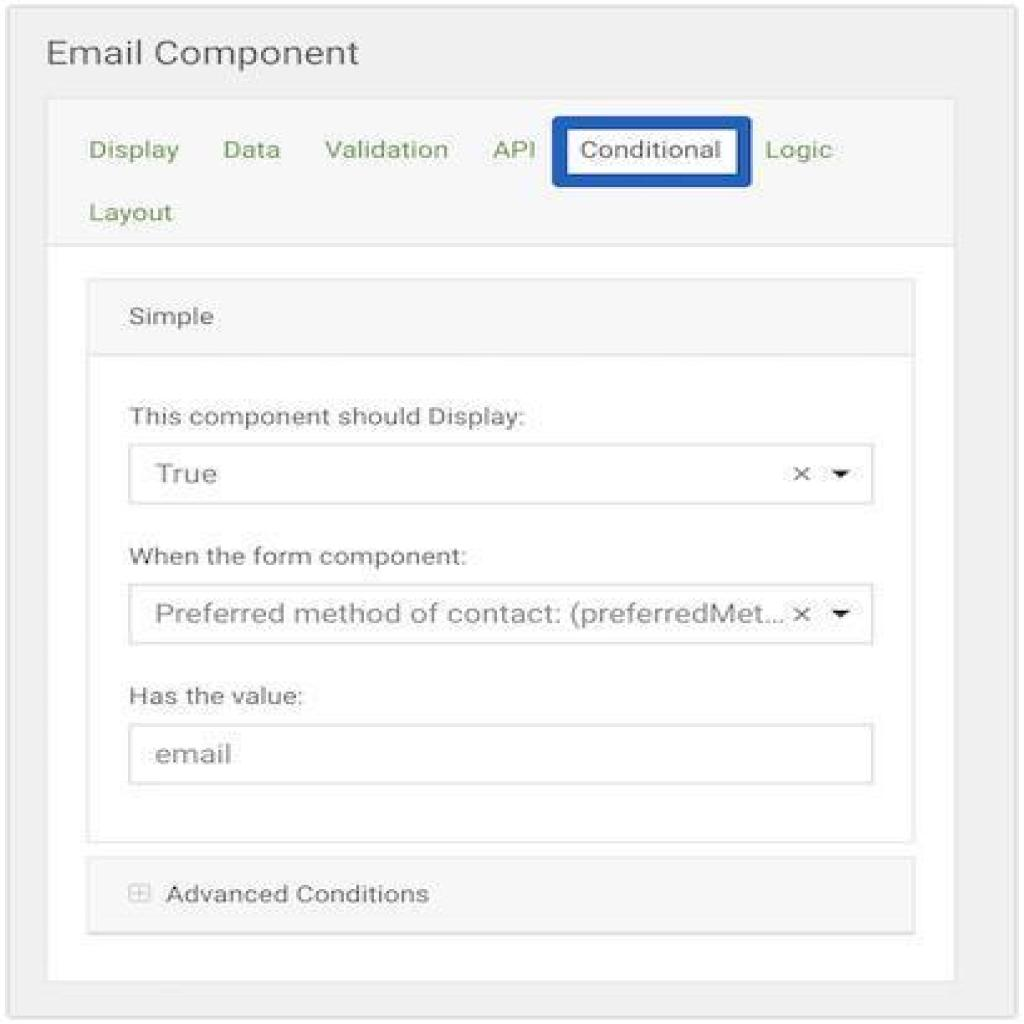button: (90, 858, 916, 935)
dropdown: (123, 440, 873, 507), (125, 579, 876, 644)
input: (126, 721, 878, 787)
label: (123, 401, 527, 430), (45, 40, 364, 70), (123, 544, 477, 569), (126, 684, 306, 708), (580, 137, 723, 164), (314, 139, 454, 162), (88, 139, 181, 164), (86, 202, 178, 226), (128, 303, 216, 328), (213, 137, 286, 162), (766, 139, 838, 162), (485, 137, 542, 162)
